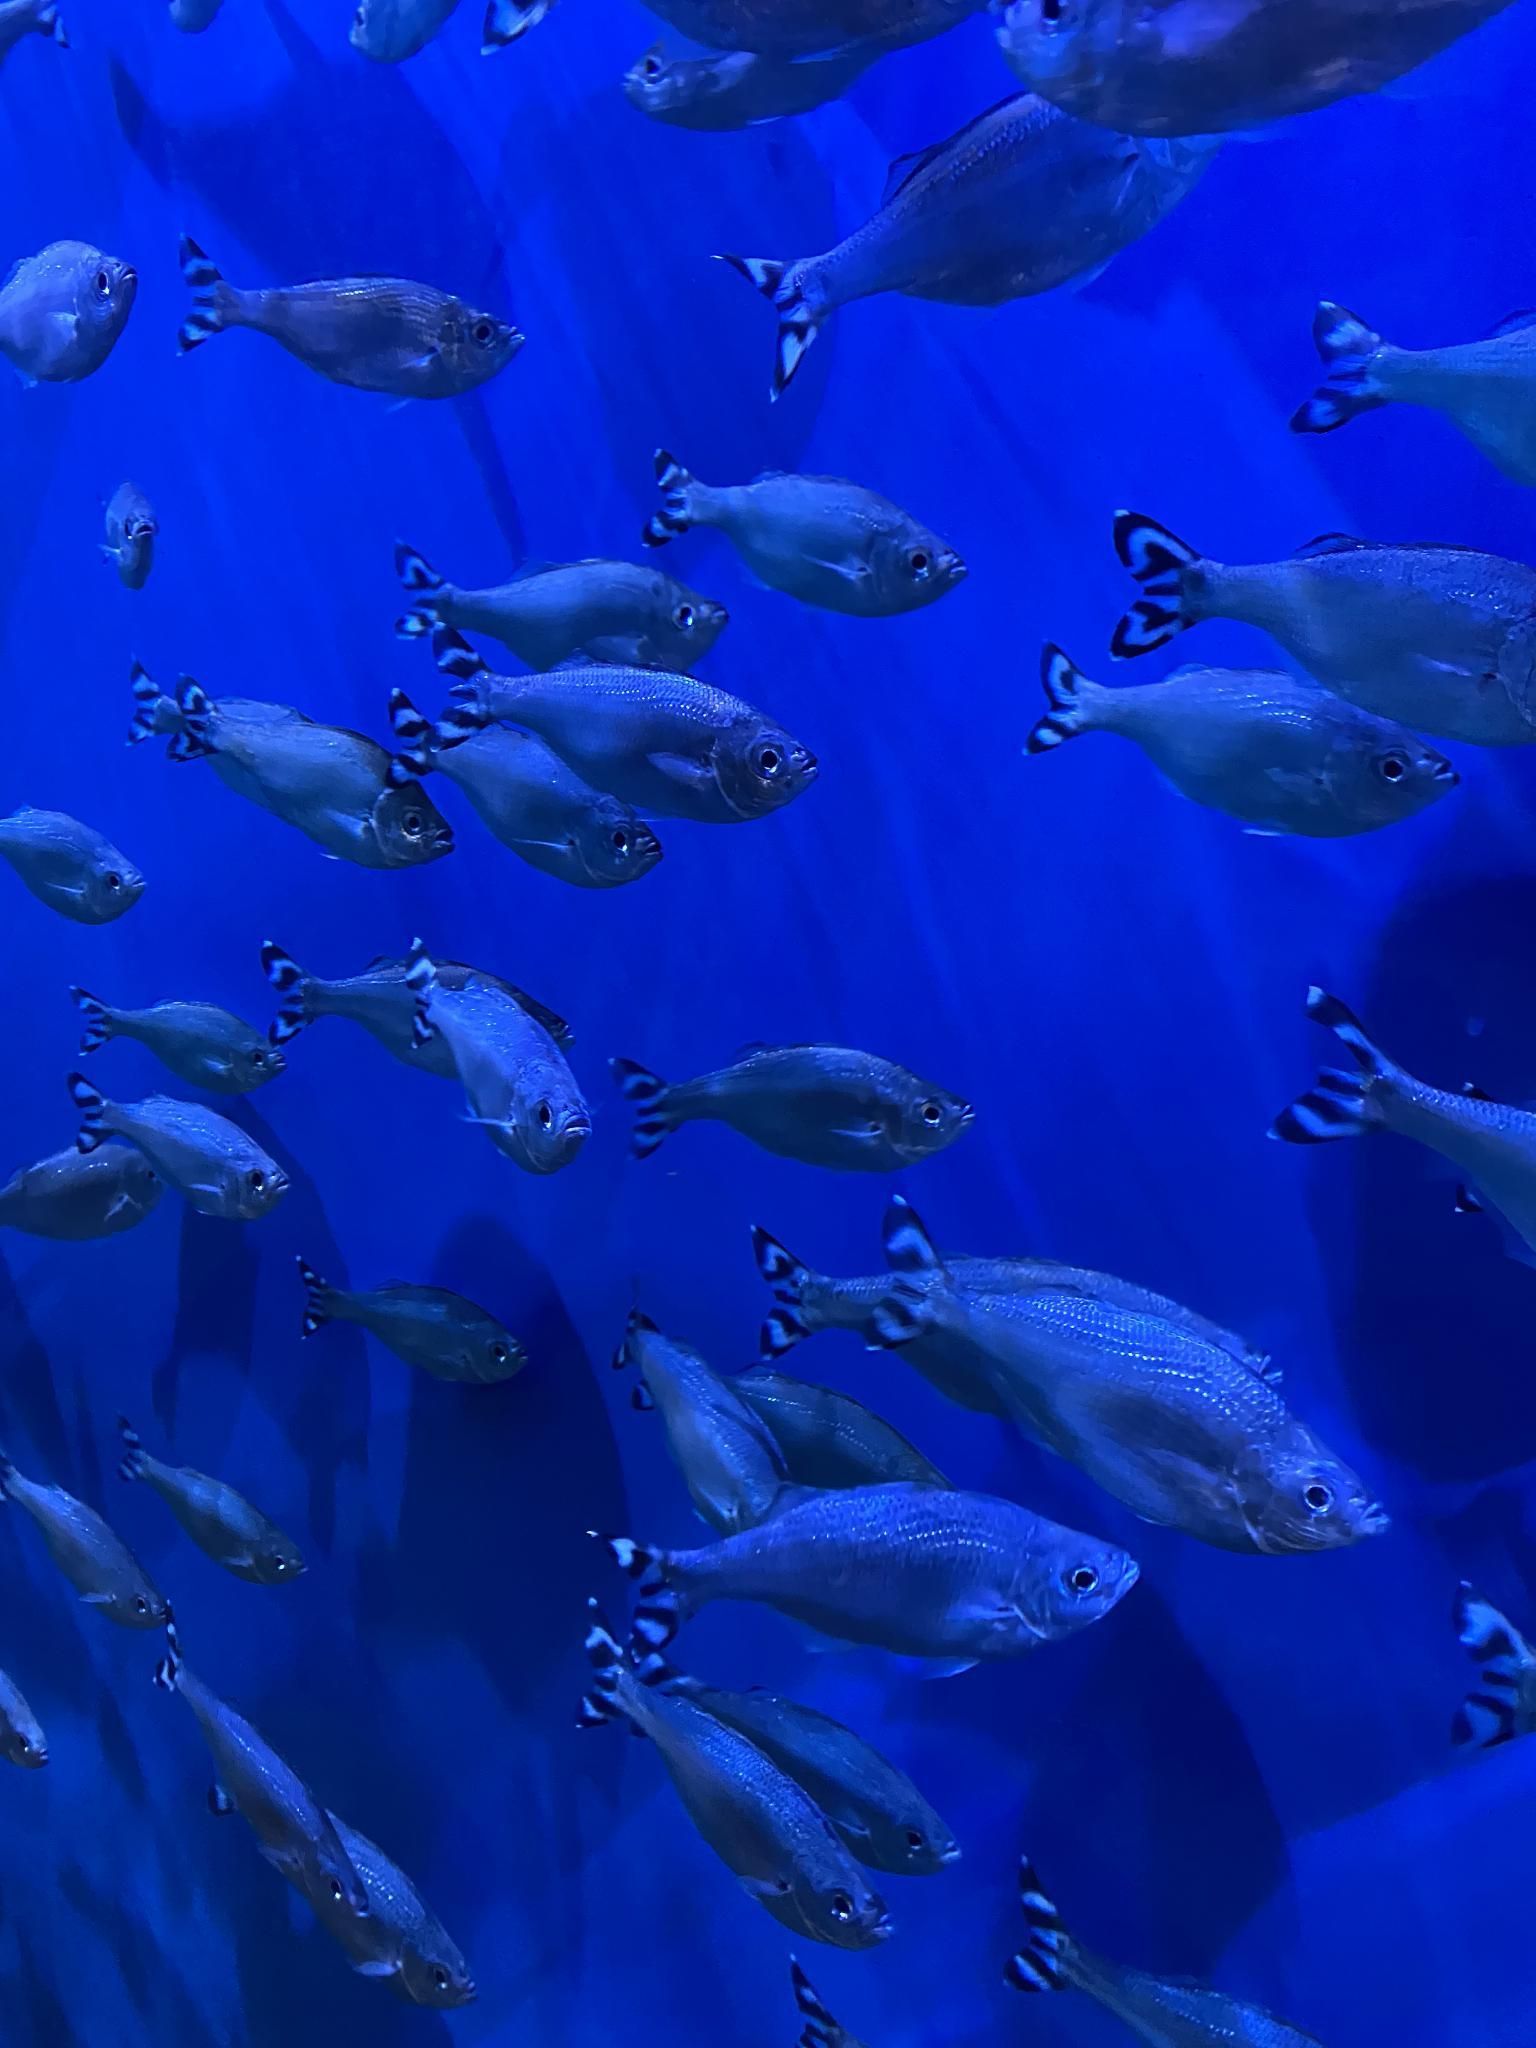fish: (745, 1180, 1392, 1561), (716, 65, 1199, 410), (132, 1608, 486, 2033), (557, 1582, 915, 1972), (586, 1569, 966, 1909), (550, 1482, 1162, 1675), (1096, 503, 1534, 764), (1012, 640, 1468, 842), (253, 926, 582, 1190), (419, 631, 821, 839), (983, 2, 1534, 150), (1270, 979, 1536, 1272), (381, 677, 678, 906), (168, 671, 463, 892), (165, 227, 529, 403), (992, 1859, 1333, 2046), (632, 439, 971, 626), (611, 1029, 979, 1188), (382, 540, 742, 697), (1284, 282, 1536, 490), (273, 1243, 549, 1427), (608, 1297, 778, 1537), (607, 23, 944, 132), (111, 1409, 298, 1605), (0, 1448, 173, 1658), (61, 1068, 311, 1203), (60, 972, 290, 1097), (0, 226, 140, 403), (123, 660, 323, 777), (1430, 1574, 1536, 1755), (0, 801, 140, 927), (2, 1135, 157, 1235), (86, 474, 165, 603), (345, 0, 468, 65), (0, 1651, 48, 1782), (0, 0, 66, 77)
